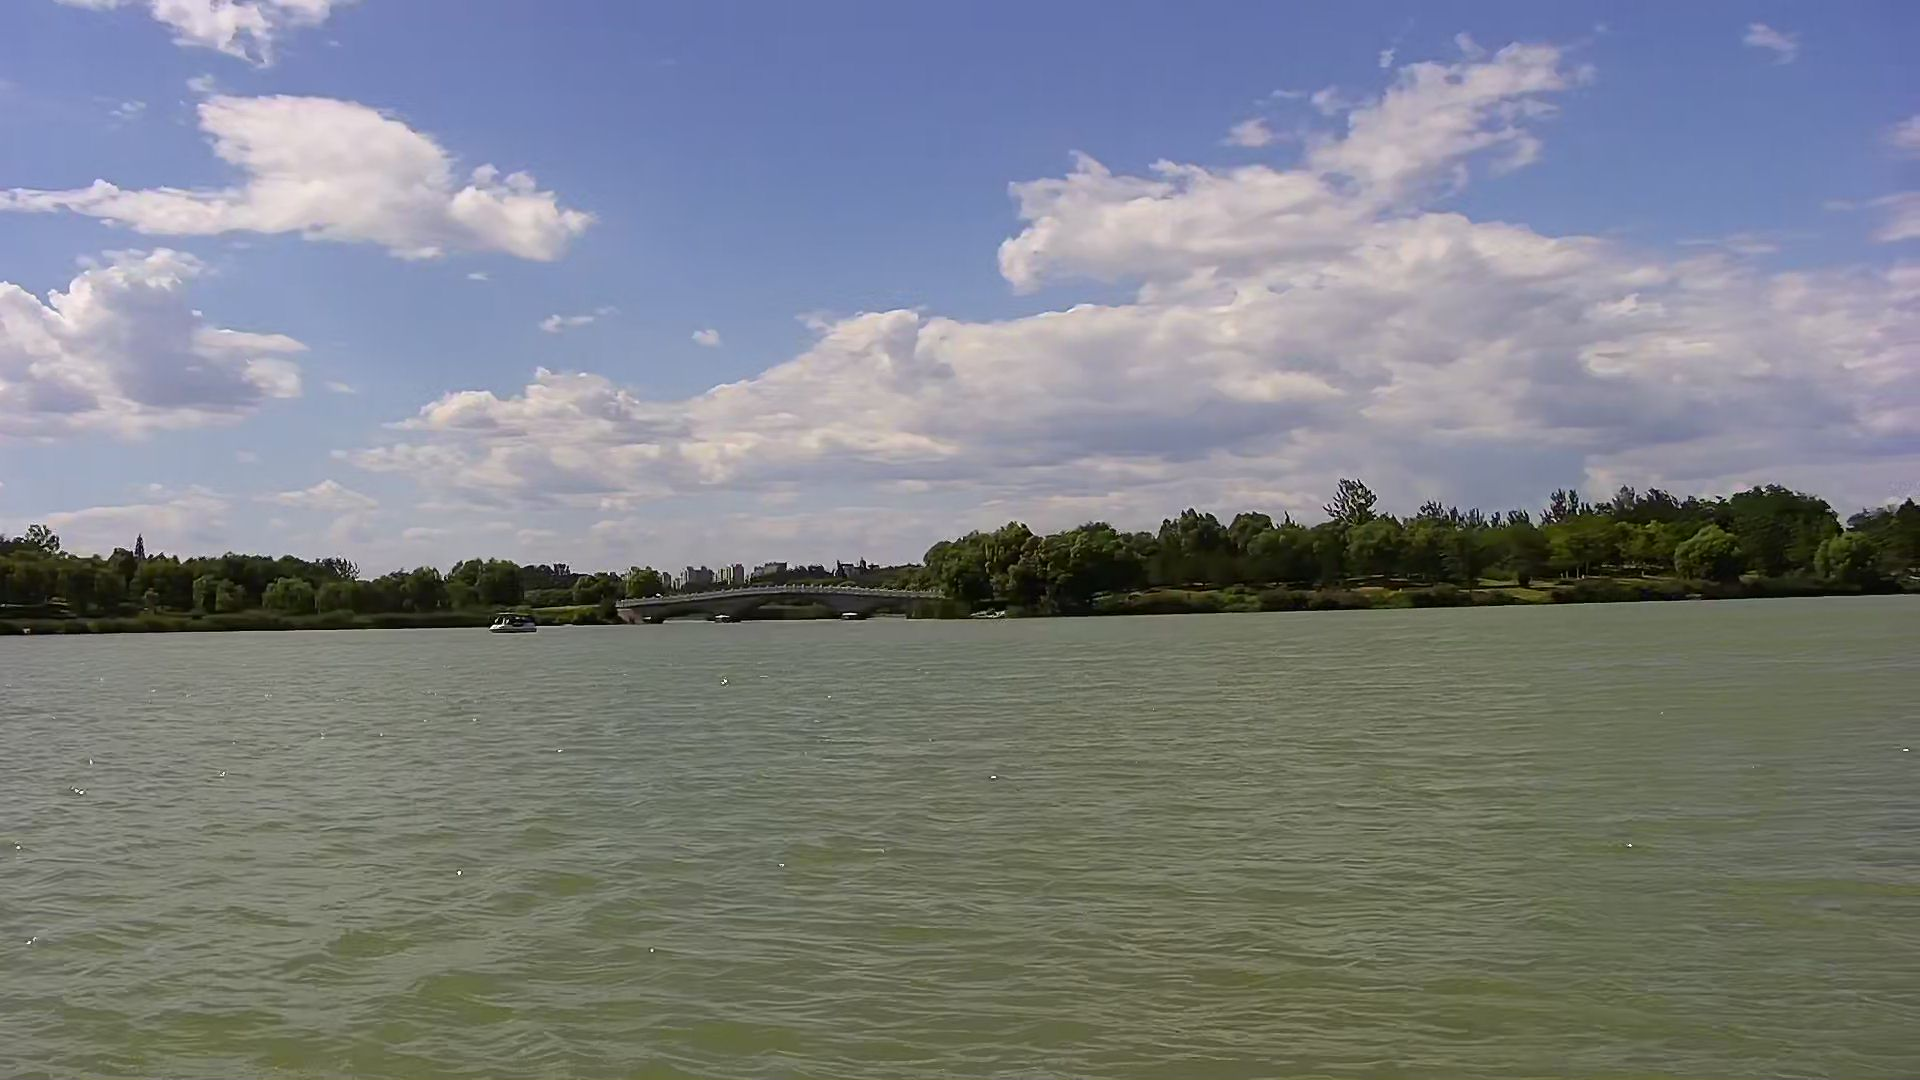boat: (488, 608, 541, 632)
bridge: (629, 587, 943, 622)
